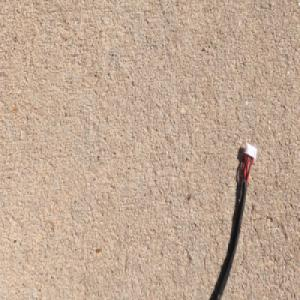Wire: (206, 140, 258, 300)
